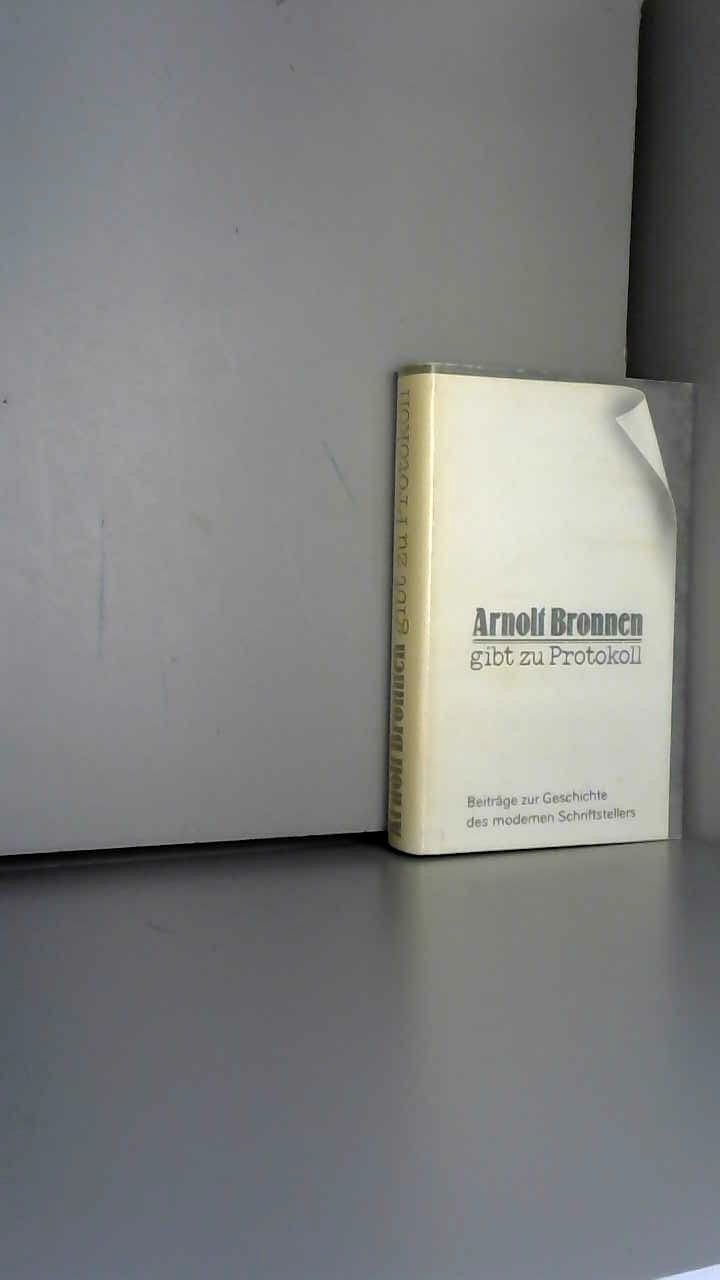book: (350, 340, 716, 892)
